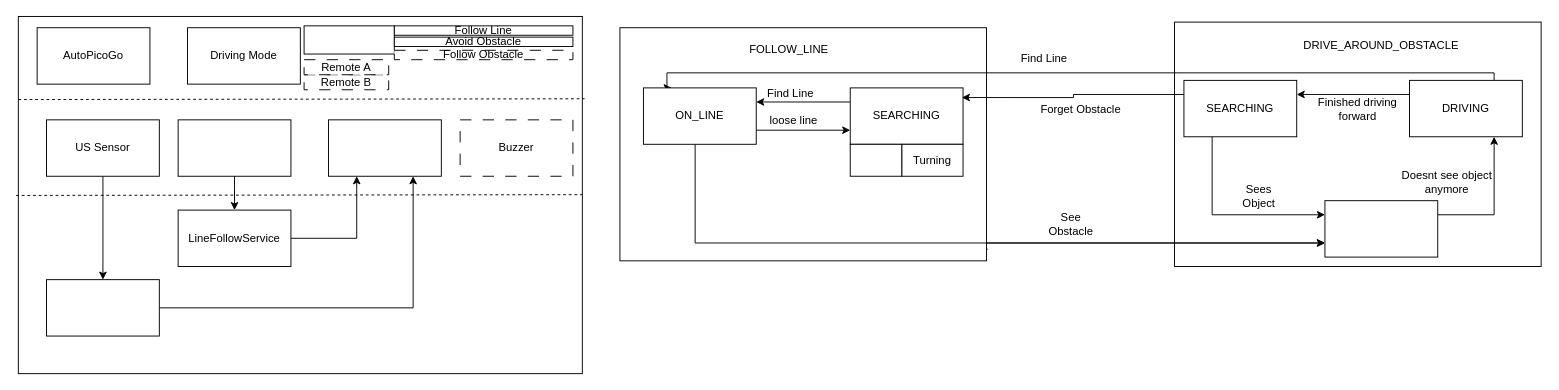
Image size: 1559x390. Some labels were removed from this diagram. The shapes that lost their labels are listed below. From the top down, each one's box as (x1, y1, x2, y2) in pixels, then its label:
(303, 25, 394, 54): Automated
(177, 119, 291, 176): IR Sensor
(328, 119, 441, 176): Motor
(849, 143, 902, 176): Dashing
(1324, 200, 1438, 257): AVOIDING
(46, 279, 159, 336): Avoid Obstacle Service
